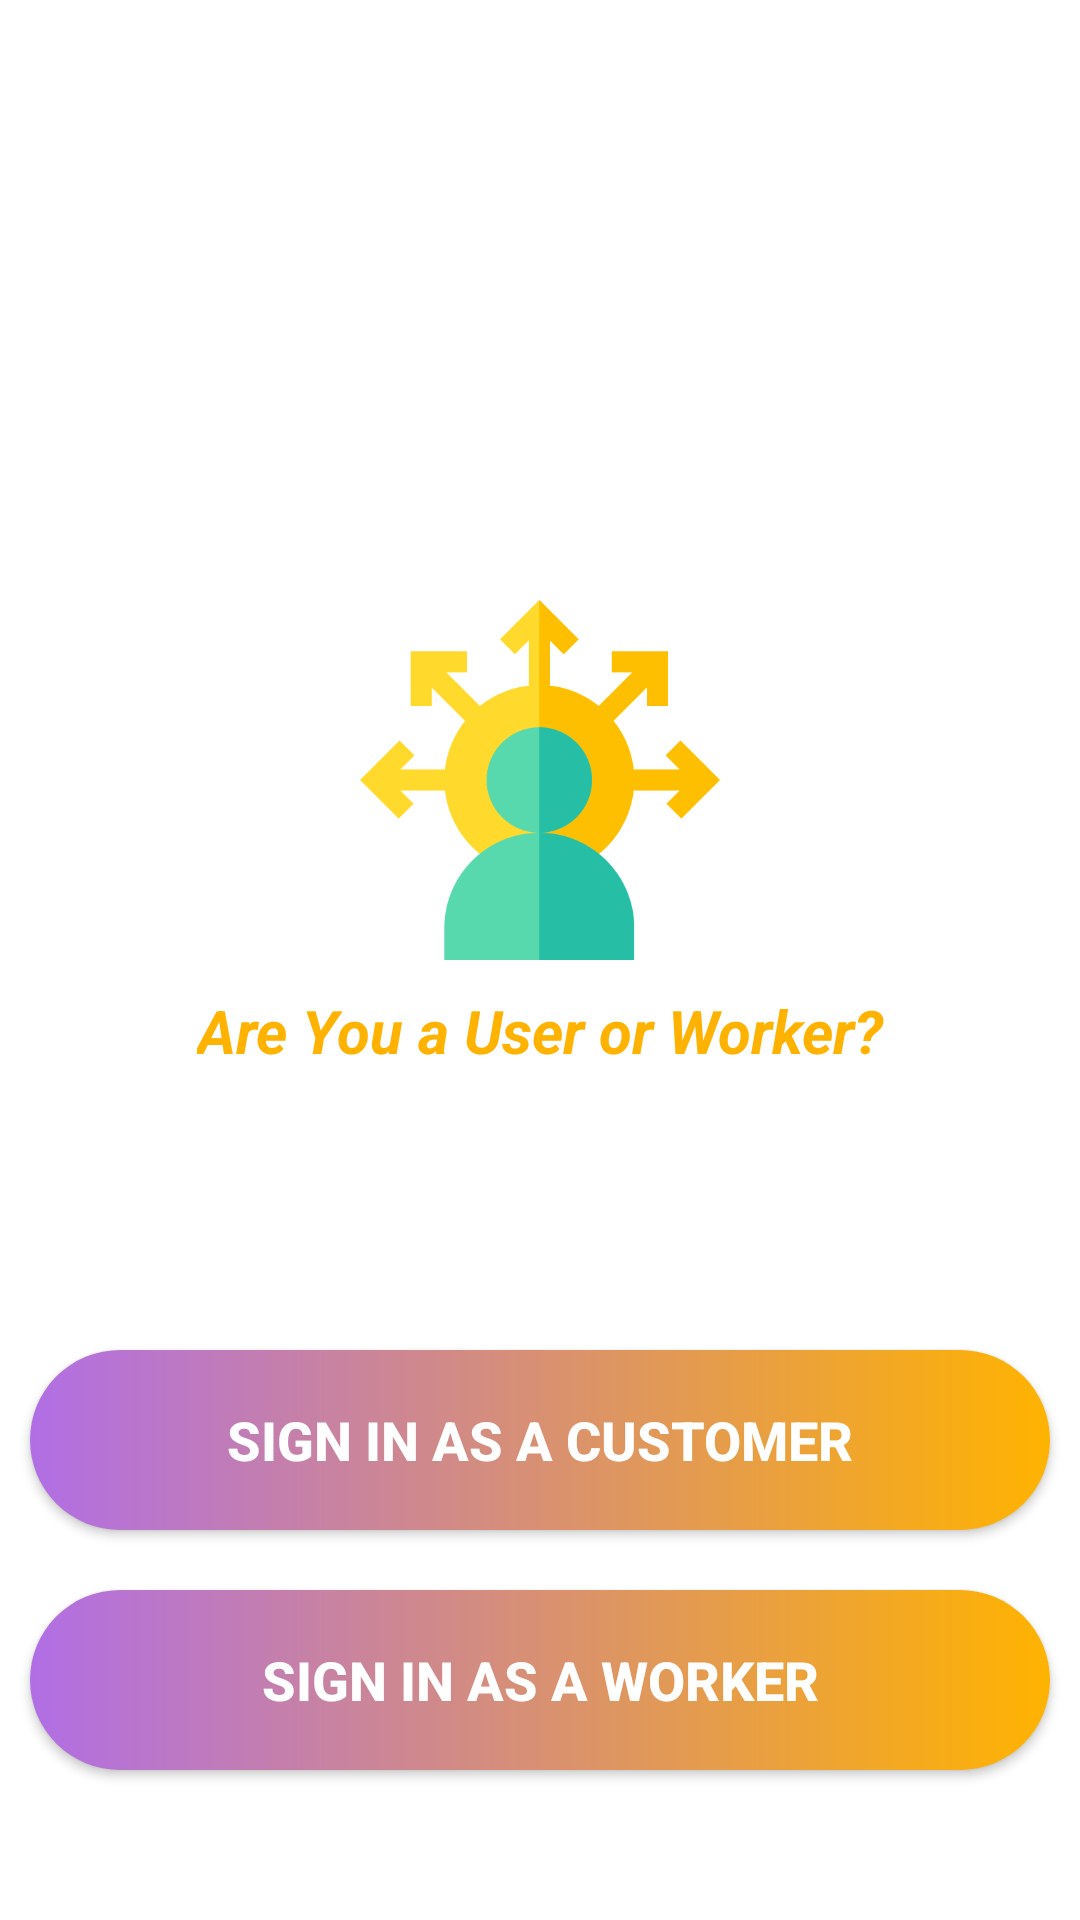

Named icons in this screenshot (1080px×1920px) and their centers, [x,y]:
options: [540,780]
